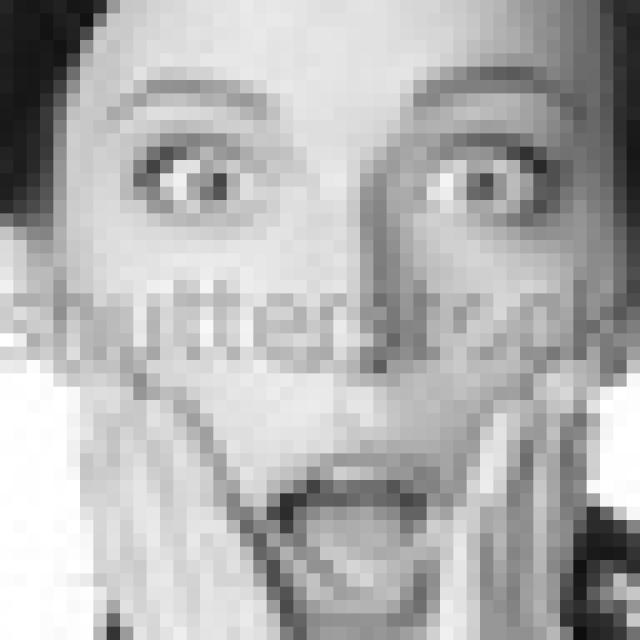surprise: (97, 60, 585, 640)
